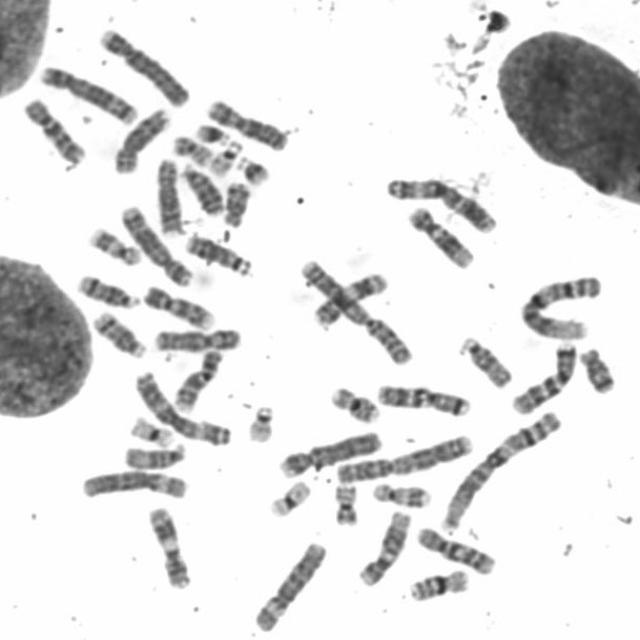A1: (436, 408, 564, 534), (515, 272, 602, 342)
A2: (294, 255, 415, 368), (332, 431, 475, 483)
A3: (132, 368, 234, 447), (382, 173, 499, 235)
B4: (96, 25, 191, 108), (274, 426, 386, 480)
B5: (117, 201, 193, 289), (37, 62, 139, 126)
C10: (19, 94, 86, 167), (413, 524, 498, 576)
C11: (310, 270, 390, 327), (144, 504, 190, 591)
C12: (405, 203, 476, 271), (354, 509, 412, 587)
C6: (250, 540, 329, 633), (77, 466, 190, 502)
C7: (508, 339, 579, 415), (372, 380, 472, 417)
C8: (110, 107, 170, 175), (151, 154, 185, 237)
C9: (138, 282, 216, 331), (169, 345, 225, 413)
D13: (181, 230, 254, 279), (177, 159, 225, 218)
D14: (89, 308, 147, 360), (74, 270, 140, 310)
D15: (456, 333, 514, 390), (121, 440, 188, 472)
E16: (404, 566, 470, 604), (326, 383, 382, 424)
E17: (84, 223, 143, 268), (369, 478, 431, 509)
E18: (576, 344, 616, 396), (219, 178, 251, 228)
F19: (265, 474, 311, 520), (125, 413, 177, 449)
F20: (170, 132, 213, 168), (330, 480, 361, 528)
G21: (232, 152, 271, 188), (192, 120, 232, 146)
G22: (206, 138, 244, 176), (243, 401, 276, 444)
X: (203, 97, 289, 152), (150, 324, 243, 354)
